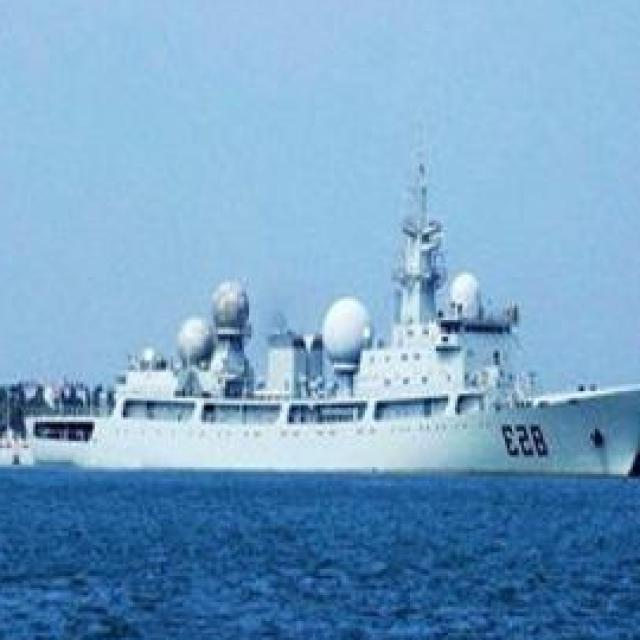navalvessels: (14, 175, 640, 479)
